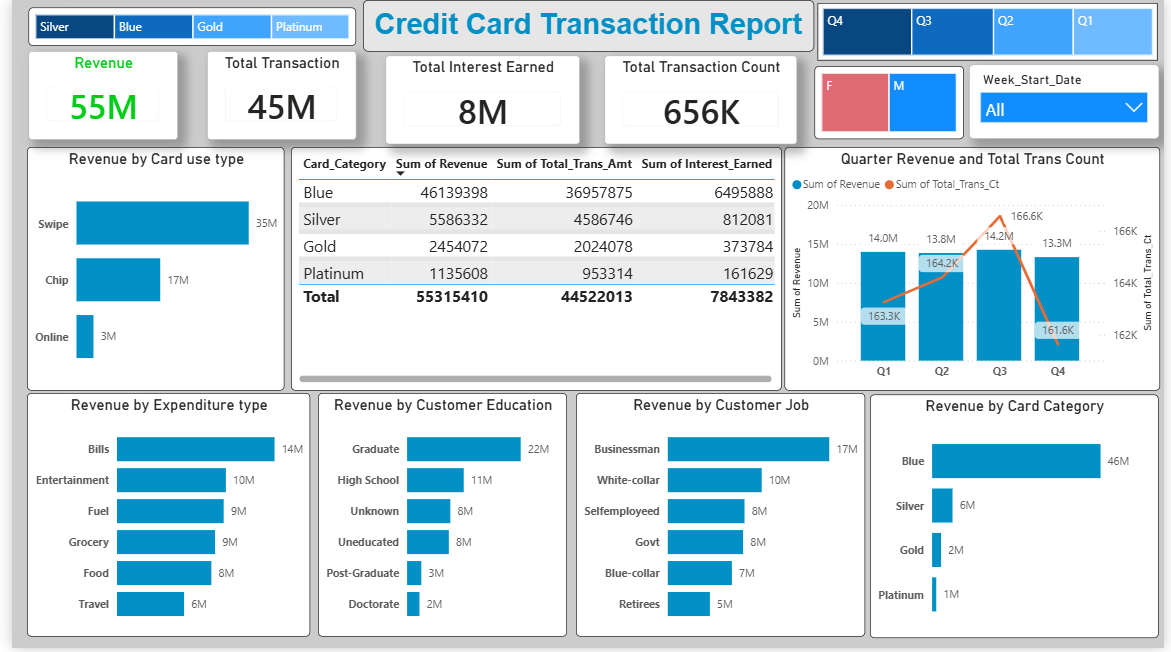

Layout of this report page (visuals, bound fields, positions):
{"tool":"powerbi","page":{"name":"Credit Card Transaction","canvas":[1280,720],"ordinal":1},"visuals":[{"type":"textbox","box":[389.7,0,501,57.3],"z":0},{"type":"lineStackedColumnComboChart","title":"Quarter Revenue and Total Trans Count","fields":{"Y":["Sum(ccdb cc_detail.Revenue)"],"Category":["ccdb cc_detail.Qtr"],"Y2":["Sum(ccdb cc_detail.Total_Trans_Ct)"]},"box":[858.1,164.1,417.3,270.4],"z":1000},{"type":"clusteredBarChart","title":"Revenue by Expenditure type","fields":{"Y":["Sum(ccdb cc_detail.Revenue)"],"Category":["ccdb cc_detail.Exp_Type"]},"box":[17.5,437.4,314.9,270.4],"z":2000},{"type":"clusteredBarChart","title":"Revenue by Customer Education","fields":{"Y":["Sum(ccdb cc_detail.Revenue)"],"Category":["ccdb cust_detail.Education_Level"]},"box":[340.4,437.4,276.8,270.4],"z":3000},{"type":"clusteredBarChart","title":"Revenue by Customer Job","fields":{"Y":["Sum(ccdb cc_detail.Revenue)"],"Category":["ccdb cust_detail.Customer_Job"]},"box":[626.7,437.4,321.3,270.4],"z":4000},{"type":"clusteredBarChart","title":"Revenue by Card Category","fields":{"Y":["Sum(ccdb cc_detail.Revenue)"],"Category":["ccdb cc_detail.Card_Category"]},"box":[953.4,437.6,320.4,270.4],"z":5000},{"type":"clusteredBarChart","title":"Revenue by Card use type","fields":{"Y":["Sum(ccdb cc_detail.Revenue)"],"Category":["ccdb cc_detail.Use_Chip"]},"box":[17.5,163.8,286.3,270.4],"z":6000},{"type":"tableEx","fields":{"Values":["ccdb cc_detail.Card_Category","Sum(ccdb cc_detail.Revenue)","Sum(ccdb cc_detail.Total_Trans_Amt)","Sum(ccdb cc_detail.Interest_Earned)"]},"box":[310.2,163.8,545.6,270.4],"z":7000},{"type":"cardVisual","title":"Revenue","fields":{"Data":["Sum(ccdb cc_detail.Revenue)"]},"box":[18.8,56.3,165.7,98.5],"z":8000},{"type":"cardVisual","title":"Total Transaction","fields":{"Data":["Sum(ccdb cc_detail.Total_Trans_Amt)"]},"box":[217.3,56.3,165.7,98.5],"z":9000},{"type":"cardVisual","title":"Total Interest Earned","fields":{"Data":["Sum(ccdb cc_detail.Interest_Earned)"]},"box":[415.8,61,215.7,98.5],"z":10000},{"type":"cardVisual","title":"Total Transaction Count","fields":{"Data":["Sum(ccdb cc_detail.Total_Trans_Ct)"]},"box":[658,61,214.1,98.5],"z":11000},{"type":"slicer","fields":{"Values":["ccdb cc_detail.Week_Start_Date"]},"box":[1062.8,71.9,211,82.8],"z":12000},{"type":"treemap","fields":{"Group":["ccdb cc_detail.Qtr"],"Values":["Avg(ccdb cc_detail.Client_Num)"]},"box":[895.6,3.1,378.2,64.1],"z":13000},{"type":"treemap","fields":{"Group":["ccdb cust_detail.Gender"],"Values":["Avg(ccdb cc_detail.Client_Num)"]},"box":[890.9,73.5,165.7,81.3],"z":14000},{"type":"treemap","fields":{"Group":["ccdb cc_detail.Card_Category"],"Values":["Avg(ccdb cc_detail.Client_Num)"]},"box":[19.1,8,364.2,42.9],"z":15000}]}

Visuals, with their boxes in screenshot pixels (x1, y1, x2, y2), scaled from the page's 1280x720 canvas onto the 1171x652 screenshot:
textbox: 357:0:815:52
"Quarter Revenue and Total Trans Count" lineStackedColumnComboChart: 785:149:1167:393
"Revenue by Expenditure type" clusteredBarChart: 16:396:304:641
"Revenue by Customer Education" clusteredBarChart: 311:396:565:641
"Revenue by Customer Job" clusteredBarChart: 573:396:867:641
"Revenue by Card Category" clusteredBarChart: 872:396:1165:641
"Revenue by Card use type" clusteredBarChart: 16:148:278:393
tableEx - ccdb cc_detail.Card_Category x Sum(ccdb cc_detail.Revenue): 284:148:783:393
"Revenue" cardVisual: 17:51:169:140
"Total Transaction" cardVisual: 199:51:350:140
"Total Interest Earned" cardVisual: 380:55:578:144
"Total Transaction Count" cardVisual: 602:55:798:144
slicer - ccdb cc_detail.Week_Start_Date: 972:65:1165:140
treemap - ccdb cc_detail.Qtr x Avg(ccdb cc_detail.Client_Num): 819:3:1165:61
treemap - ccdb cust_detail.Gender x Avg(ccdb cc_detail.Client_Num): 815:67:967:140
treemap - ccdb cc_detail.Card_Category x Avg(ccdb cc_detail.Client_Num): 17:7:351:46
